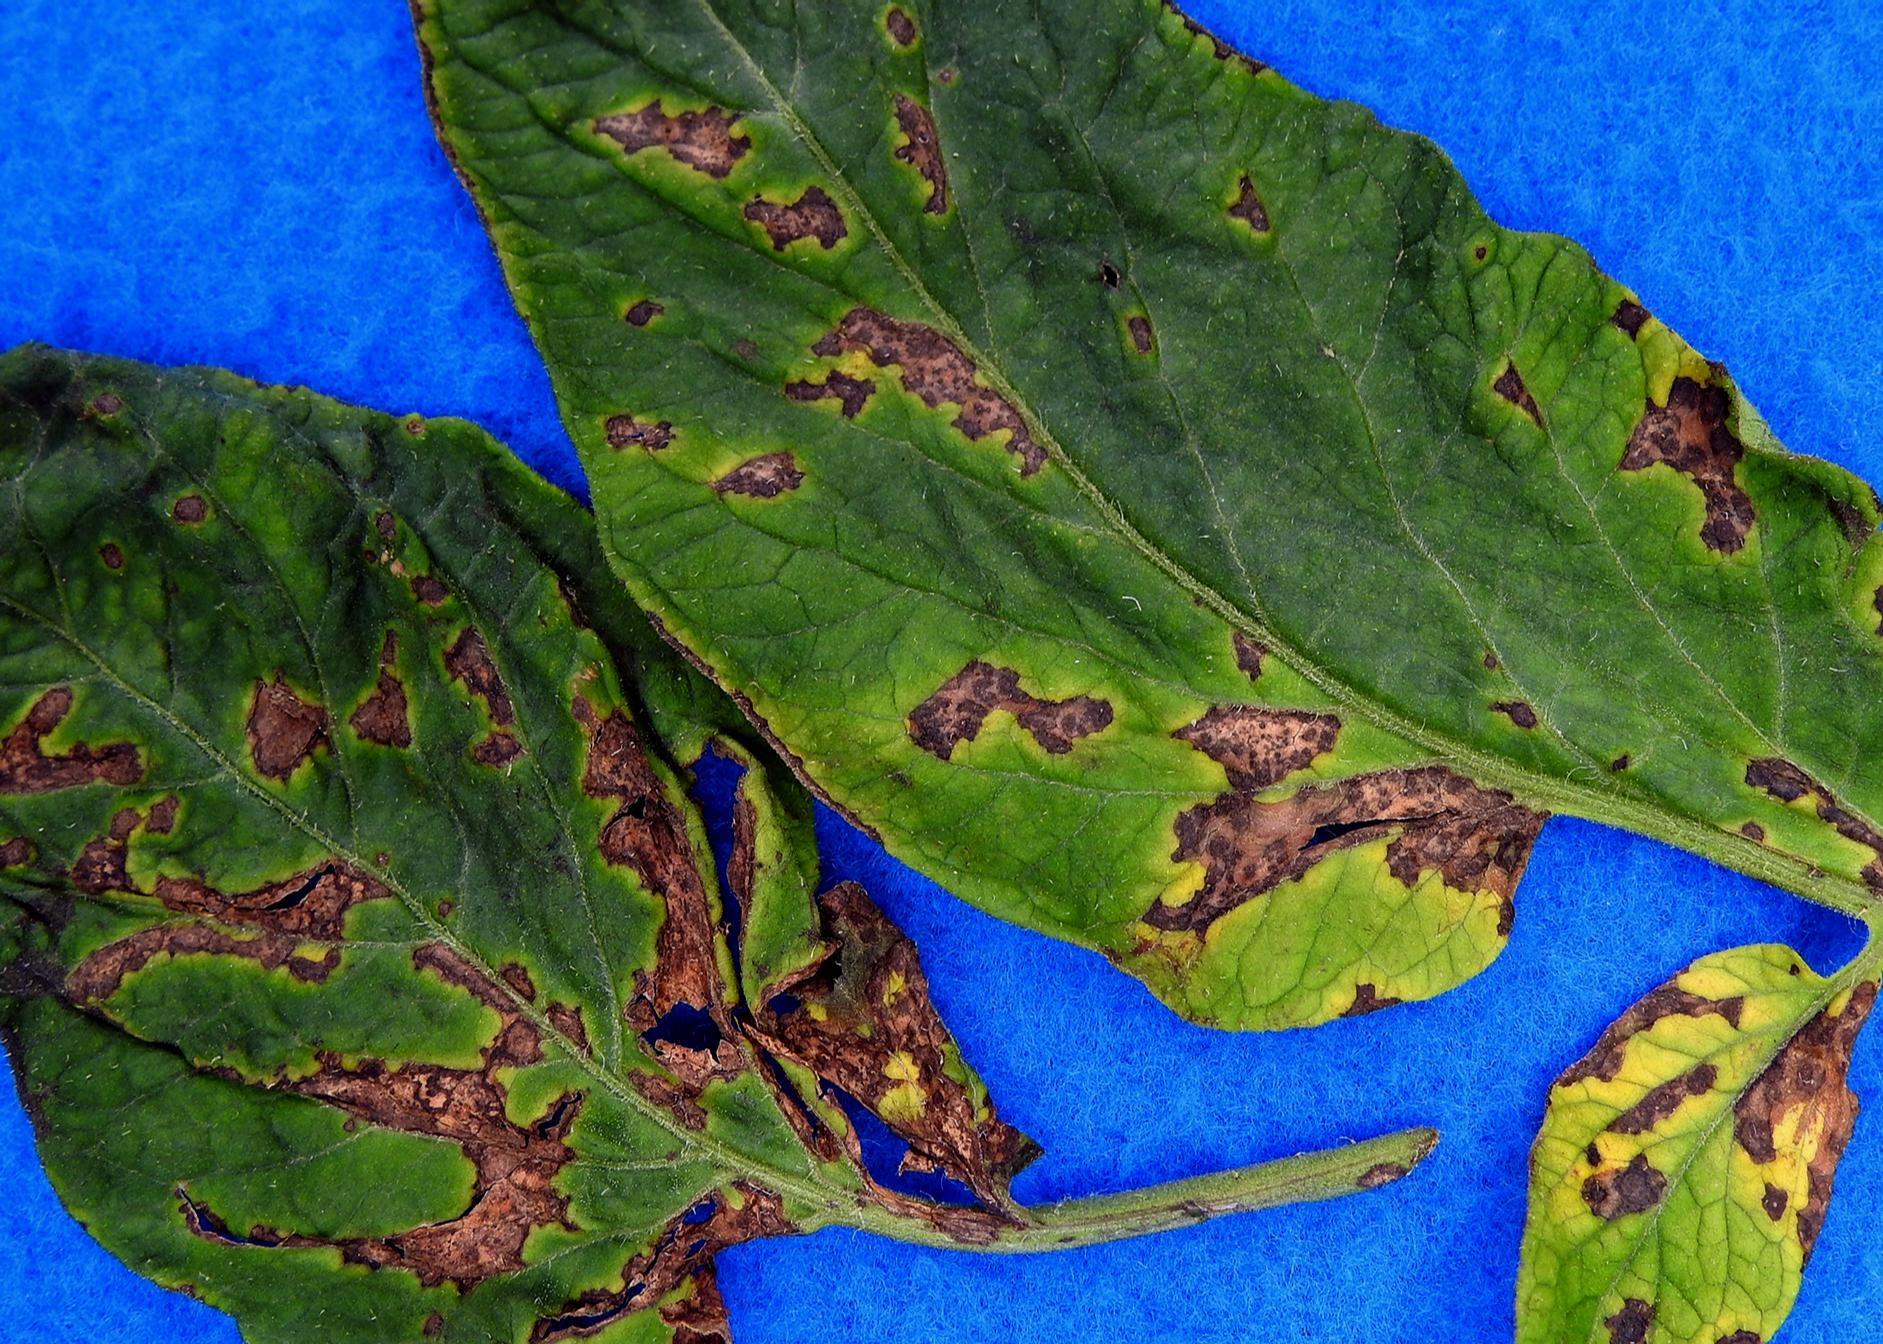Tomato leaf bacterial spot: (340, 0, 1883, 1098), (0, 314, 971, 1344), (1469, 940, 1883, 1344)
